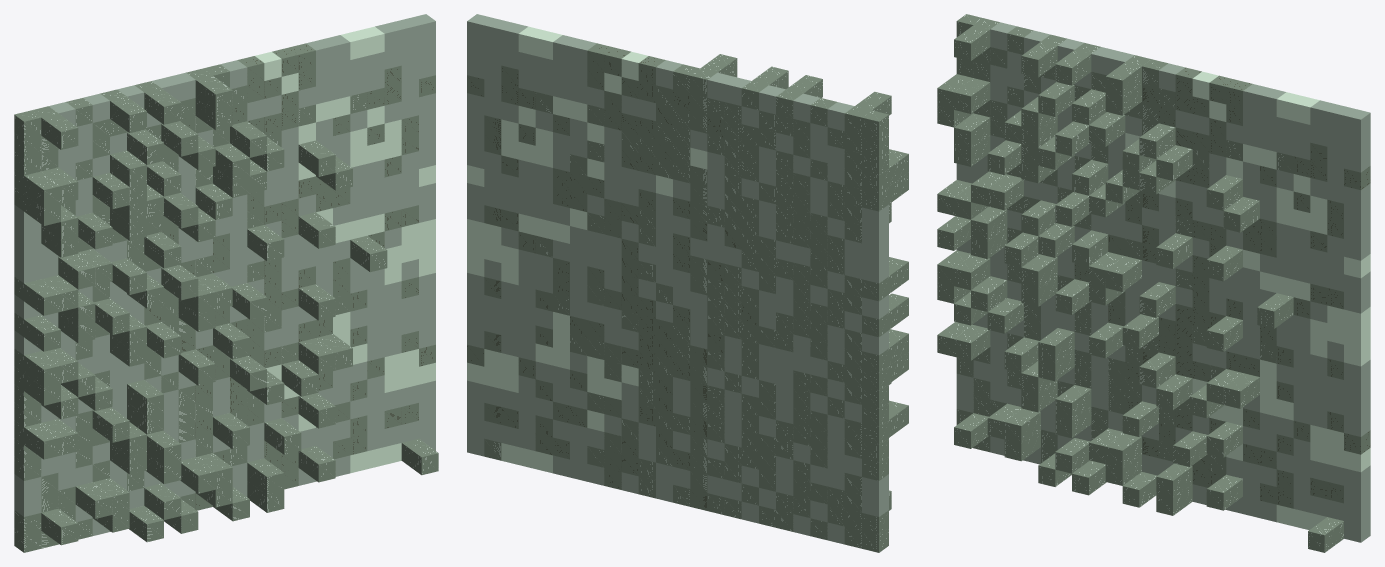
The picture shows the model from 3 angles, left to right: view 1: azimuth 30°, elevation 25°; view 2: azimuth 150°, elevation 25°; view 3: azimuth 330°, elevation 25°; orthographic projection.
Size of the model in its own units: 2.4 by 2.4 by 0.3.
